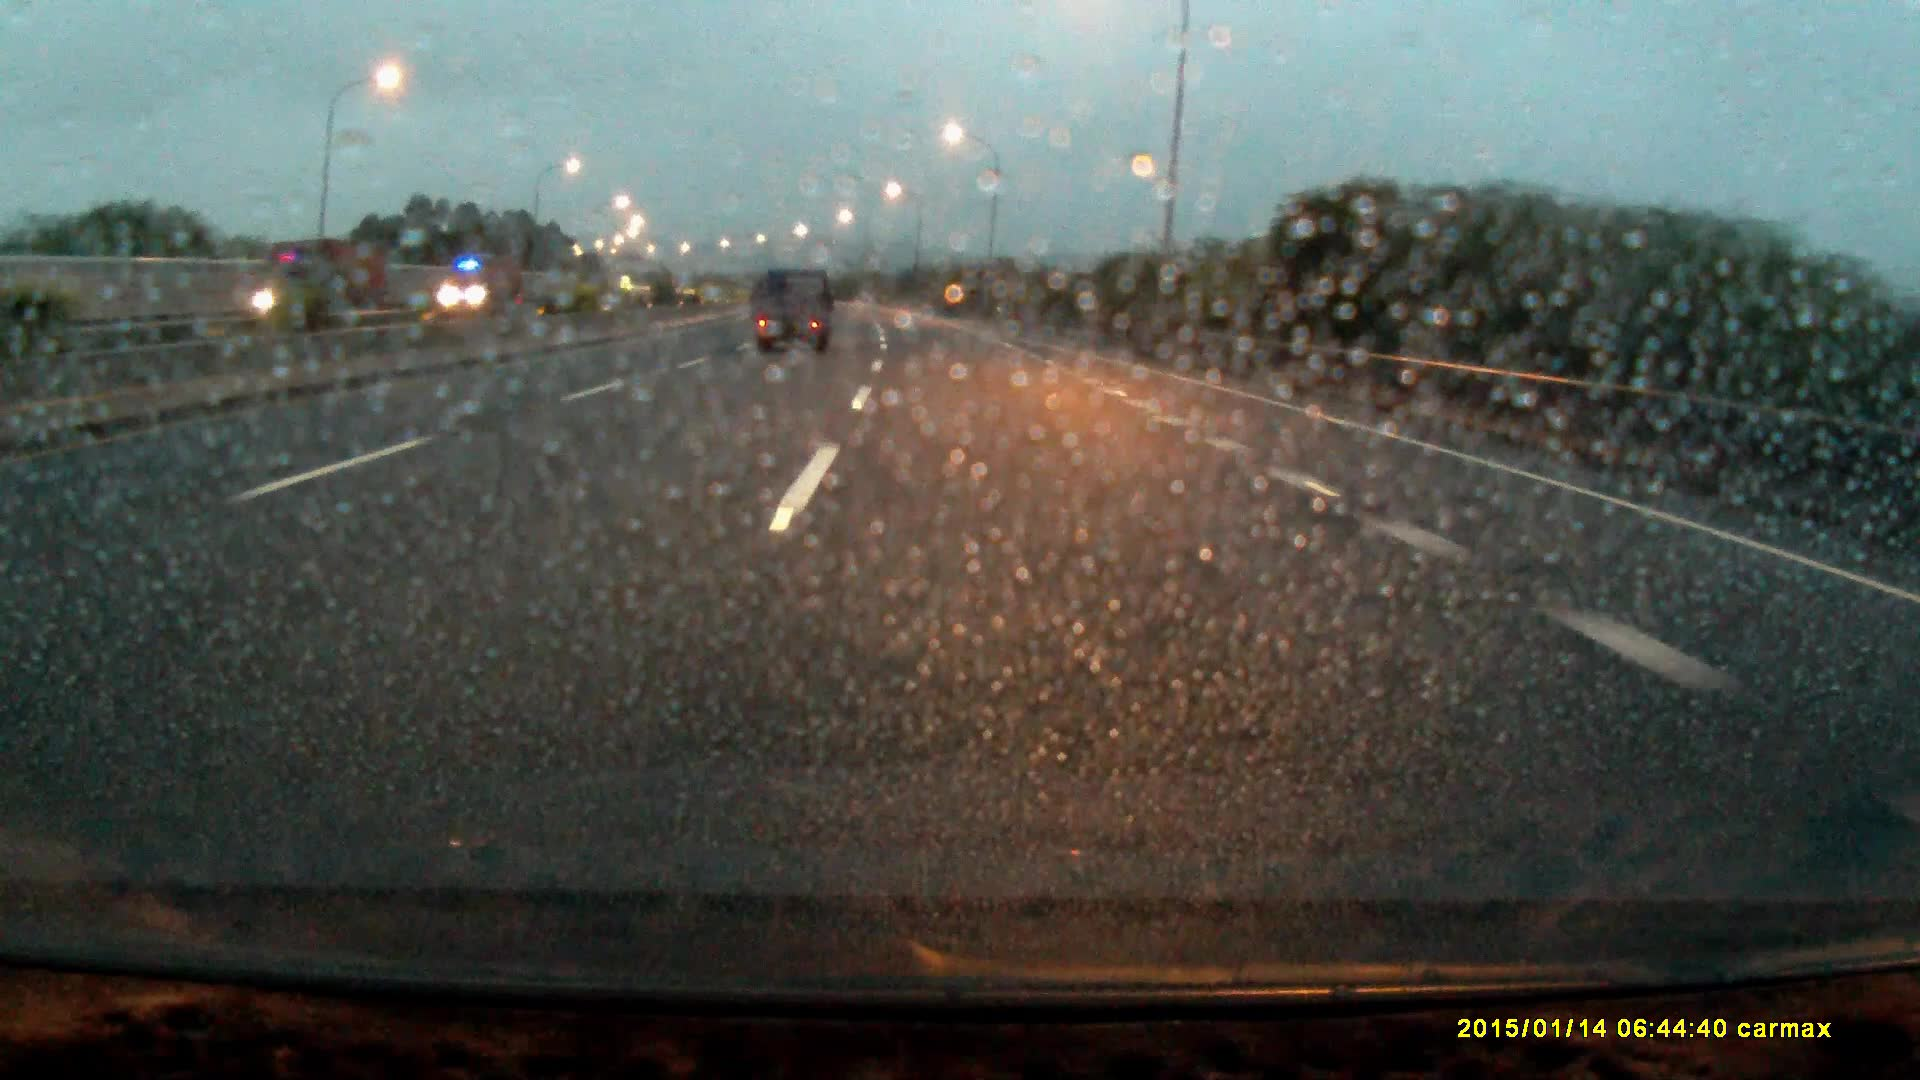vehicle: (236, 247, 386, 328), (752, 272, 832, 361), (436, 252, 520, 316)
